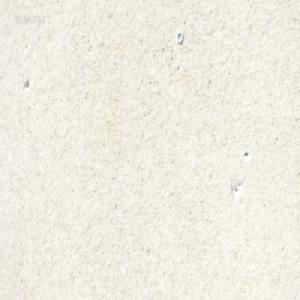Washer: (176, 30, 183, 44)
